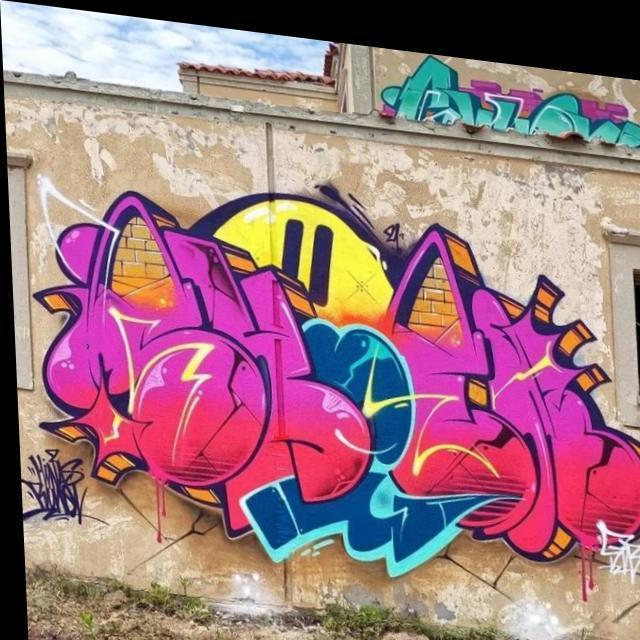nonspitting: (30, 186, 640, 578), (380, 56, 640, 149), (22, 445, 90, 528)
